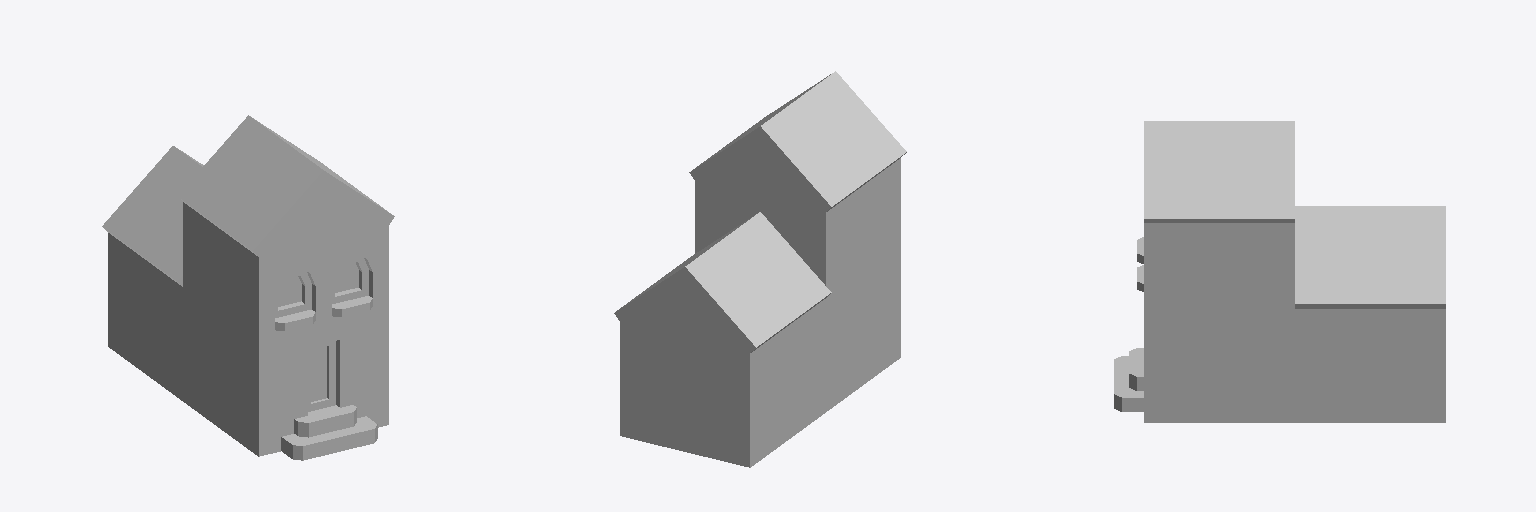
The model's file is building-sample-house-b.obj.
3 views of the same model, side by side, from view 1: azimuth 30°, elevation 25°; view 2: azimuth 150°, elevation 25°; view 3: azimuth 270°, elevation 25° (orthographic).
Visible parts, largest first — view 1: building-sample-house-b; view 2: building-sample-house-b; view 3: building-sample-house-b.
Part boxes in pixels (bbox=[...]): building-sample-house-b: bbox=[102, 115, 394, 460]; building-sample-house-b: bbox=[614, 71, 906, 467]; building-sample-house-b: bbox=[1114, 121, 1445, 422].
Bounding box in the file's own units: 1.09 × 1.98 × 2.2.